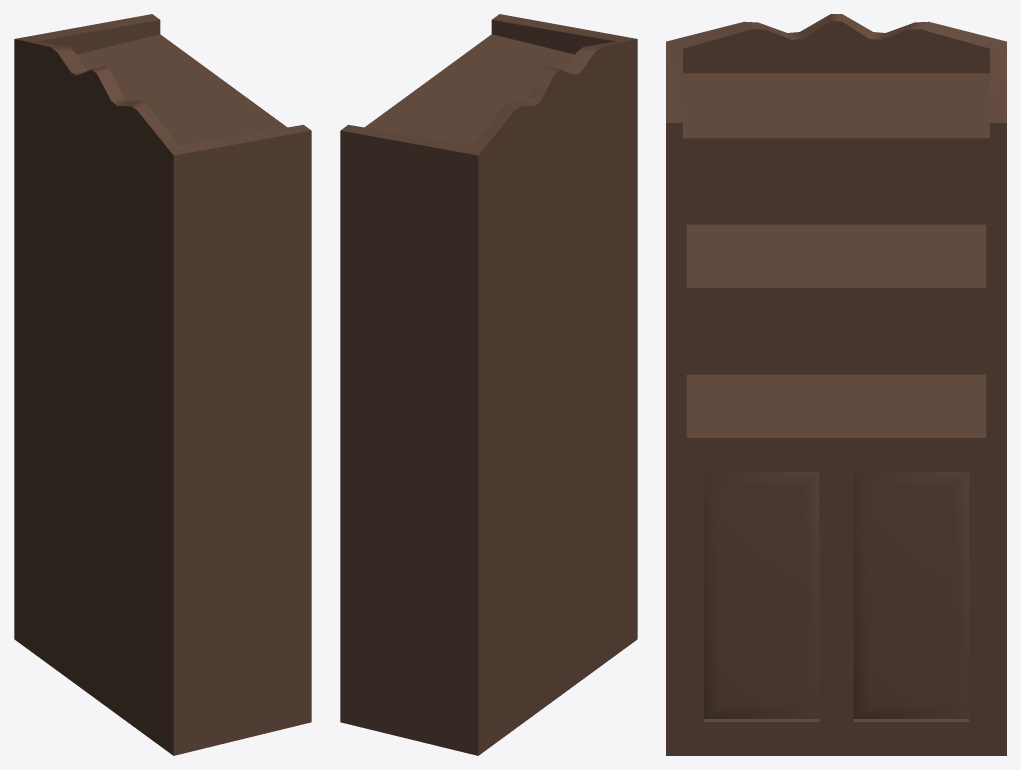
The picture shows the model from 3 angles, left to right: view 1: azimuth 30°, elevation 25°; view 2: azimuth 150°, elevation 25°; view 3: azimuth 270°, elevation 25°; orthographic projection. The views are drawn at different scales.
Parts seen in each view (by area): view 1: Cabinet_0.5x1x2_0; view 2: Cabinet_0.5x1x2_0; view 3: Cabinet_0.5x1x2_0.
Part boxes in pixels (x1,y1,x2,y2): Cabinet_0.5x1x2_0: [14, 14, 311, 755]; Cabinet_0.5x1x2_0: [340, 14, 637, 755]; Cabinet_0.5x1x2_0: [666, 14, 1006, 755].
Size of the model in its own units: 0.5 by 2.17 by 1.
